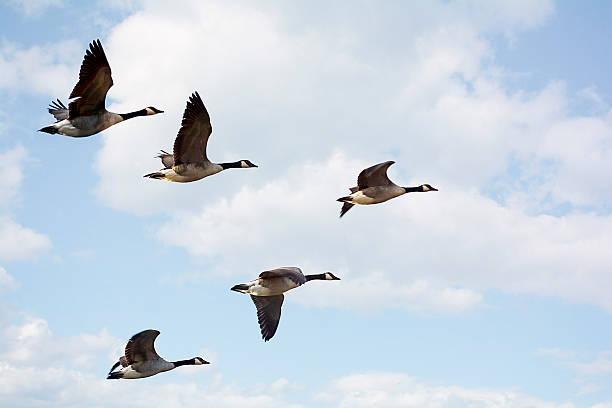Canadian-Goose: (27, 41, 168, 142), (151, 94, 261, 185), (231, 261, 345, 343), (334, 157, 444, 218), (107, 327, 212, 383)
